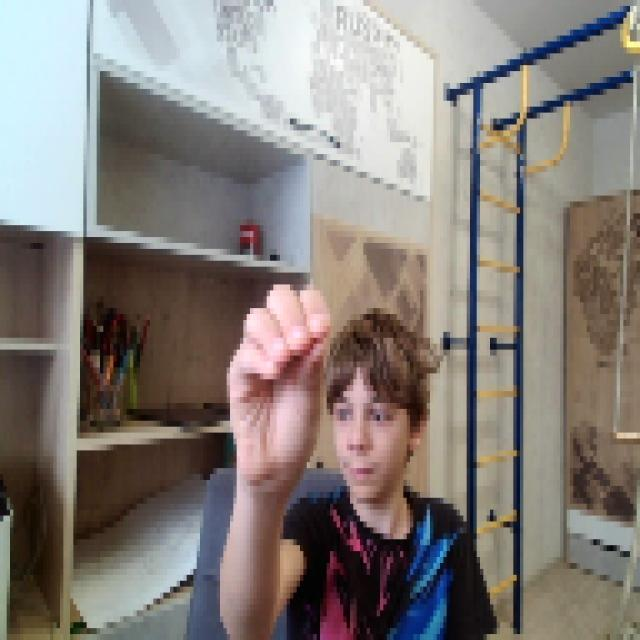left_click: (223, 273, 327, 480)
